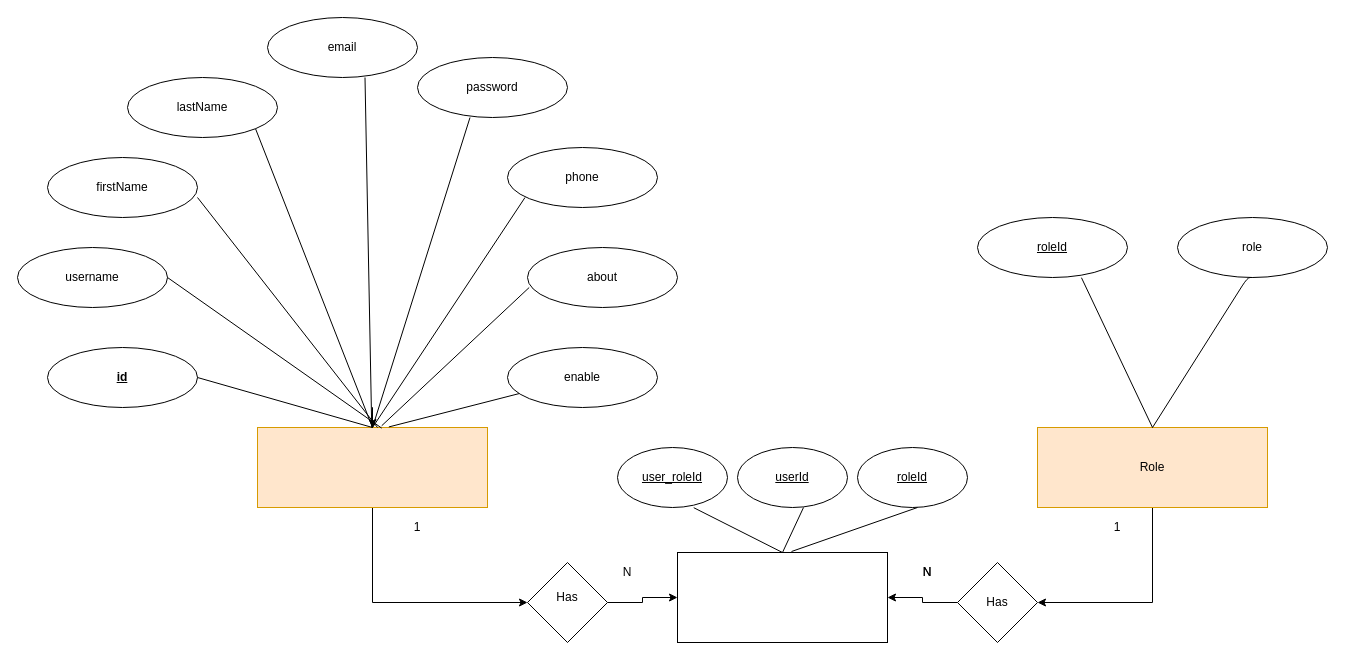
Image size: 1345x660. Some labels were removed from this diagram. Here are the shapes that lost their labels. From the top down, the centre of each, then its label:
point (372, 467): User
point (782, 597): User_Role
